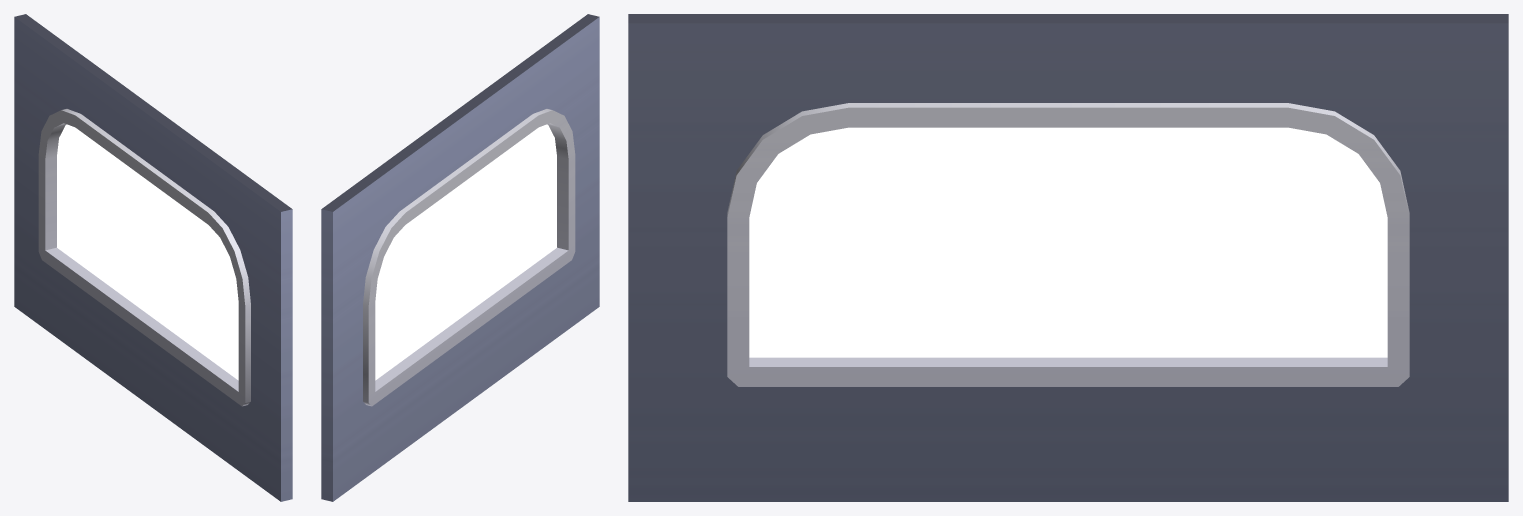
File: part_wall_window_wide_round.fbx
The picture shows the model from 3 angles, left to right: view 1: azimuth 30°, elevation 25°; view 2: azimuth 150°, elevation 25°; view 3: azimuth 270°, elevation 25°; orthographic projection. The views are drawn at different scales.
Visible parts, largest first — view 1: wall-window-wide-round, (%ignore); view 2: wall-window-wide-round, (%ignore); view 3: wall-window-wide-round, (%ignore).
Part boxes in pixels (box(x1,y1,x2,y2)): wall-window-wide-round: box(14, 14, 292, 501); (%ignore): box(57, 124, 238, 380); wall-window-wide-round: box(321, 14, 599, 501); (%ignore): box(375, 124, 556, 380); wall-window-wide-round: box(628, 14, 1508, 501); (%ignore): box(749, 127, 1387, 357).
Bounding box in the file's own units: 20 × 240 × 400.
Materials: 2 (1 with a texture image).
